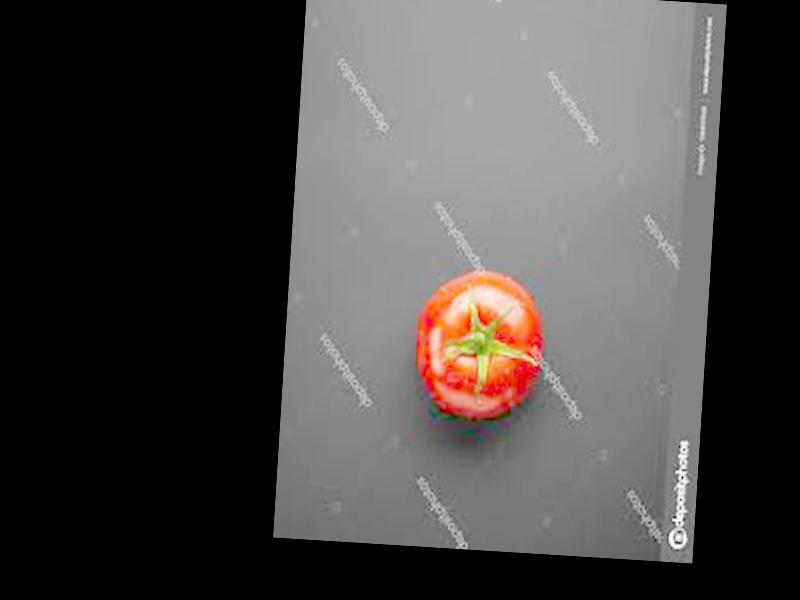Tomato: (410, 264, 548, 420)
